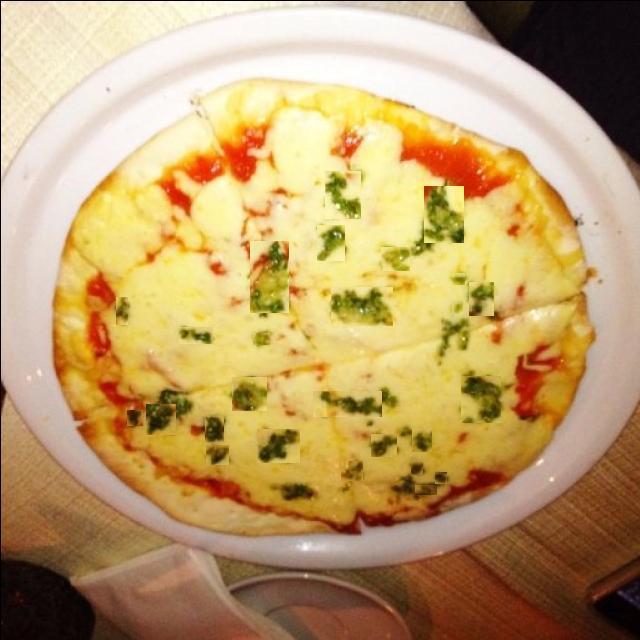basil: (249, 240, 288, 312), (330, 286, 392, 325), (423, 185, 463, 242), (460, 375, 500, 422), (312, 390, 381, 416), (324, 170, 360, 218), (256, 428, 299, 462), (231, 376, 266, 410), (436, 320, 468, 355), (316, 224, 344, 260), (159, 389, 191, 419), (145, 403, 175, 434), (270, 481, 315, 501), (468, 281, 493, 315), (380, 246, 409, 270), (409, 233, 437, 256), (370, 433, 396, 456), (178, 326, 212, 343), (202, 414, 222, 442), (390, 475, 415, 496), (411, 426, 431, 451), (378, 386, 398, 411), (205, 444, 228, 464), (340, 460, 362, 480), (115, 296, 127, 324), (126, 409, 142, 425), (414, 484, 436, 494), (252, 332, 269, 344), (459, 368, 473, 382), (451, 272, 464, 284), (410, 461, 422, 474), (434, 471, 446, 483), (451, 300, 462, 313), (363, 418, 374, 426), (338, 485, 348, 493)
pizza: (48, 76, 583, 533)
